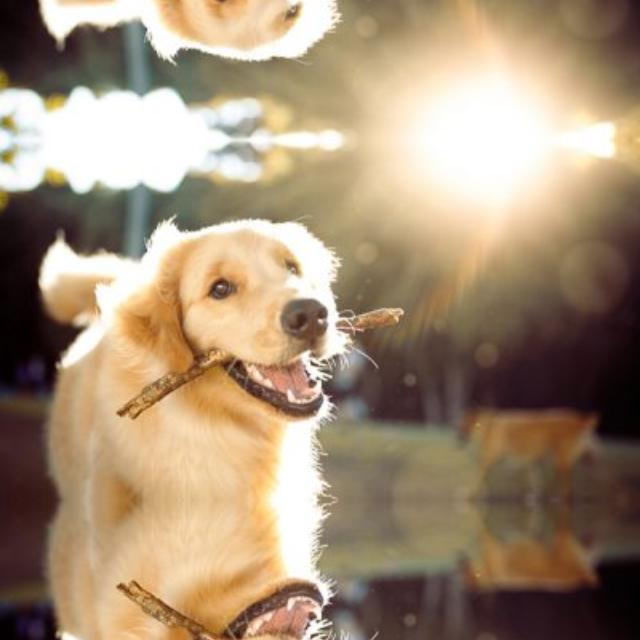dog: (151, 204, 383, 420), (151, 0, 383, 75), (151, 580, 383, 640)
